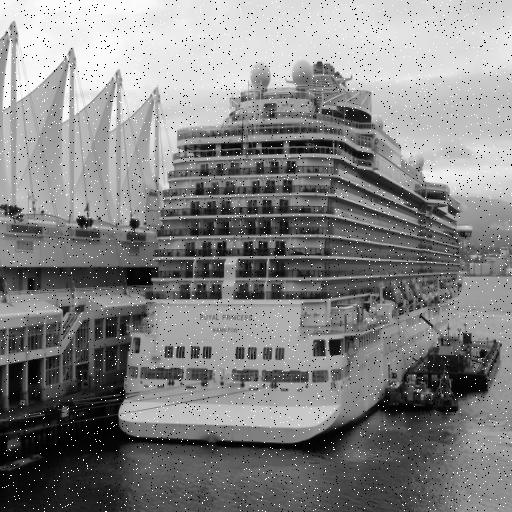cruises: (114, 58, 473, 457)
